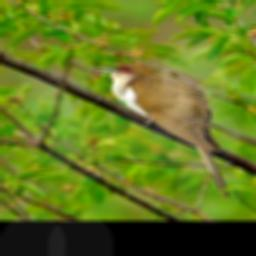Cuckoo: (94, 60, 231, 199)
